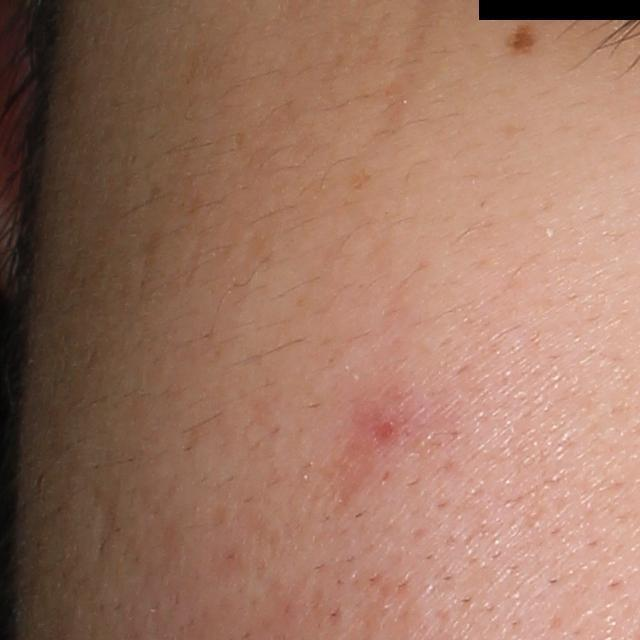atrophic_scar: (91, 484, 121, 559)
nevus: (509, 19, 540, 54)
